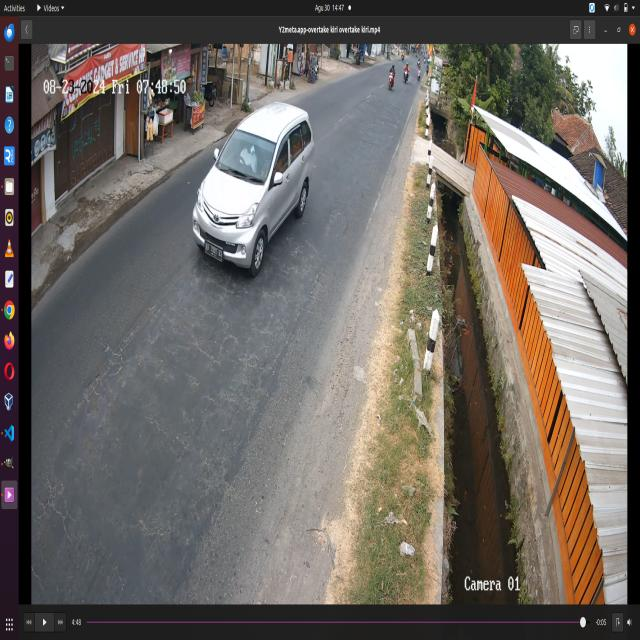person_without_seatbelt: (232, 138, 259, 180)
